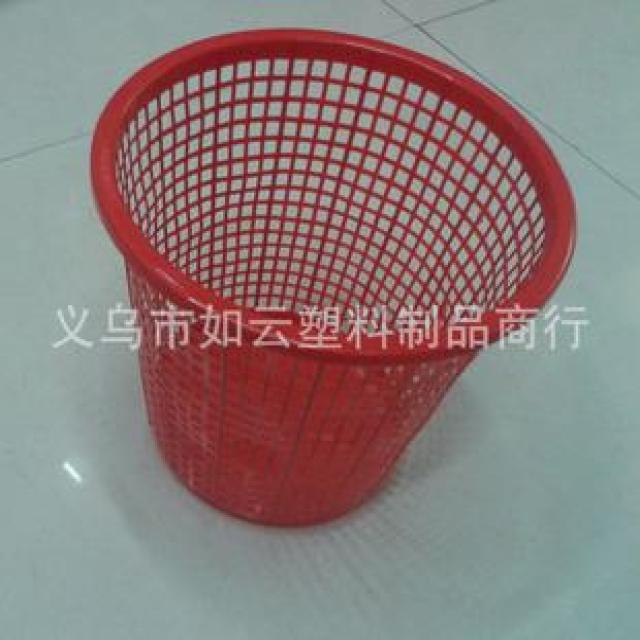dustbin: (89, 21, 578, 534)
